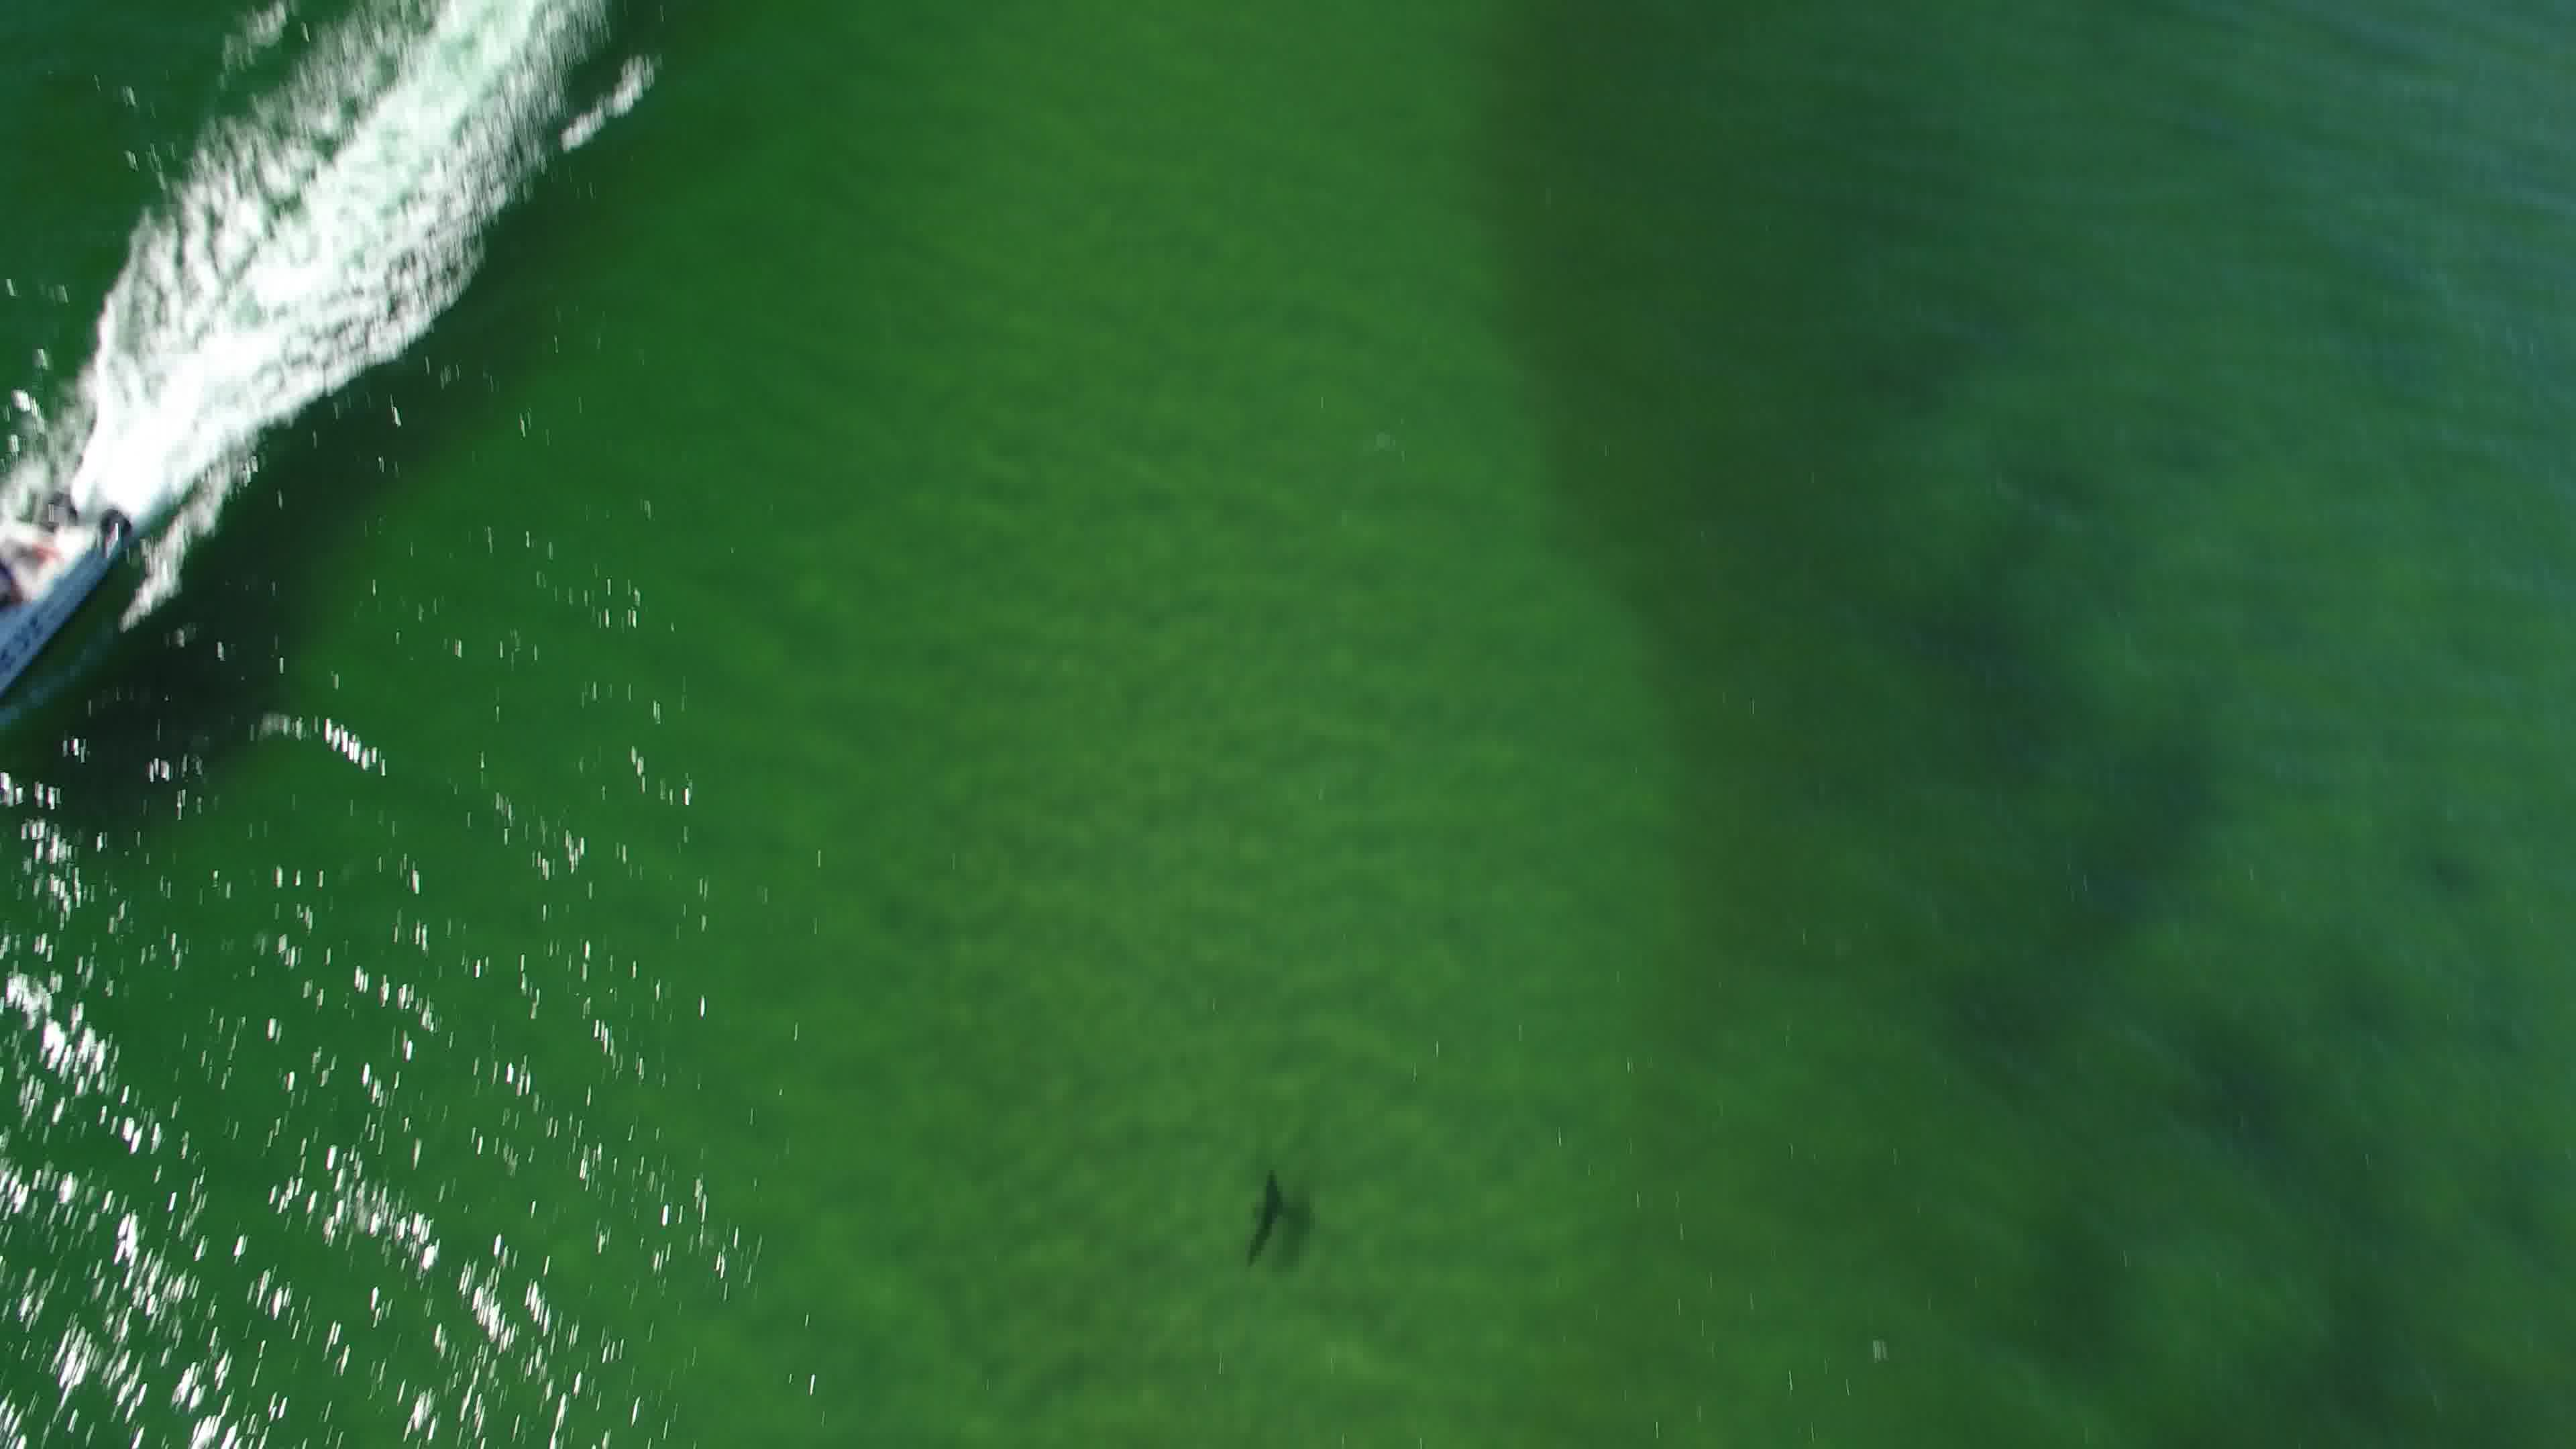shark: (1228, 1164, 1309, 1276)
